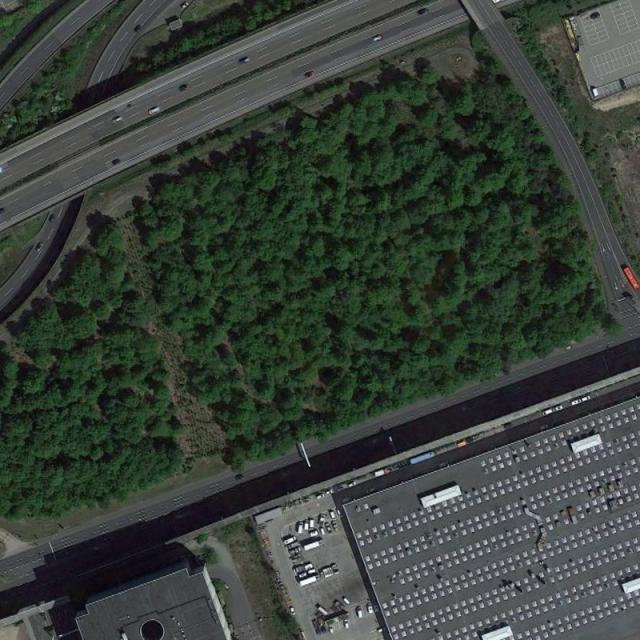vehicle: (147, 105, 160, 117), (371, 32, 384, 43), (541, 407, 553, 417), (552, 404, 563, 414), (235, 474, 246, 483), (486, 1, 500, 8), (284, 537, 298, 544), (580, 394, 592, 402), (114, 115, 123, 125), (305, 70, 315, 79), (367, 602, 374, 614), (180, 1, 189, 10), (365, 486, 375, 494), (36, 242, 44, 252), (571, 398, 580, 406), (593, 87, 599, 99), (319, 514, 325, 526), (342, 496, 352, 503), (239, 58, 250, 64), (418, 8, 429, 14), (620, 79, 626, 90), (298, 522, 303, 535), (180, 84, 188, 92), (49, 214, 57, 222), (112, 158, 121, 165), (309, 518, 314, 530), (358, 606, 363, 618), (344, 618, 349, 630), (135, 26, 143, 33), (374, 602, 379, 613), (330, 510, 336, 519), (290, 606, 295, 616), (590, 14, 599, 19), (329, 625, 334, 634), (305, 519, 309, 530), (348, 482, 356, 487), (325, 490, 333, 495), (317, 494, 324, 499)
